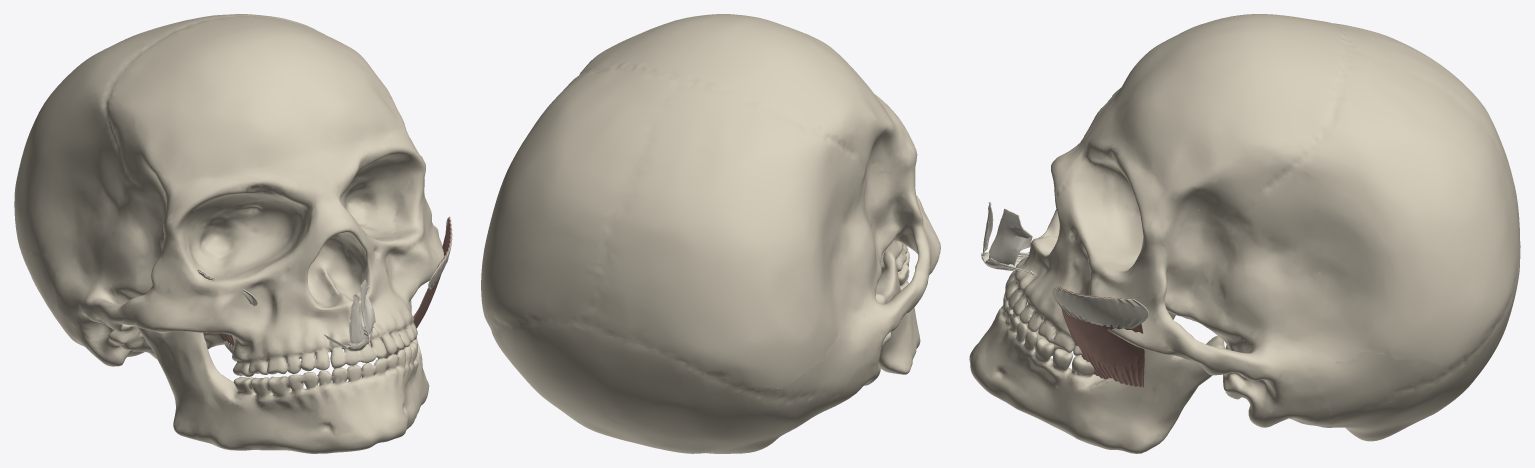
File: male-bone.glb
3 views of the same model, side by side, from view 1: azimuth 30°, elevation 25°; view 2: azimuth 150°, elevation 25°; view 3: azimuth 270°, elevation 25° (orthographic). The views are drawn at different scales.
Parts seen in each view (by area): view 1: male-illustrative-bone, Masseter 1, Upper lateral cartilage -1, Upper lateral cartilage 1; view 2: male-illustrative-bone; view 3: male-illustrative-bone, Masseter 1, Zygomatic aponeurosis 1, Upper lateral cartilage 1.
Part boxes in pixels (x1,y1,x2,y2): male-illustrative-bone: (14, 14, 448, 453); Masseter 1: (385, 216, 451, 358); Upper lateral cartilage -1: (349, 292, 364, 343); Upper lateral cartilage 1: (360, 279, 375, 338); male-illustrative-bone: (481, 14, 940, 453); male-illustrative-bone: (969, 14, 1520, 453); Masseter 1: (1058, 286, 1144, 387); Zygomatic aponeurosis 1: (1052, 287, 1148, 328); Upper lateral cartilage 1: (989, 208, 1032, 266).
Size of the model in its own units: 0.1523 by 0.1546 by 0.2076.
